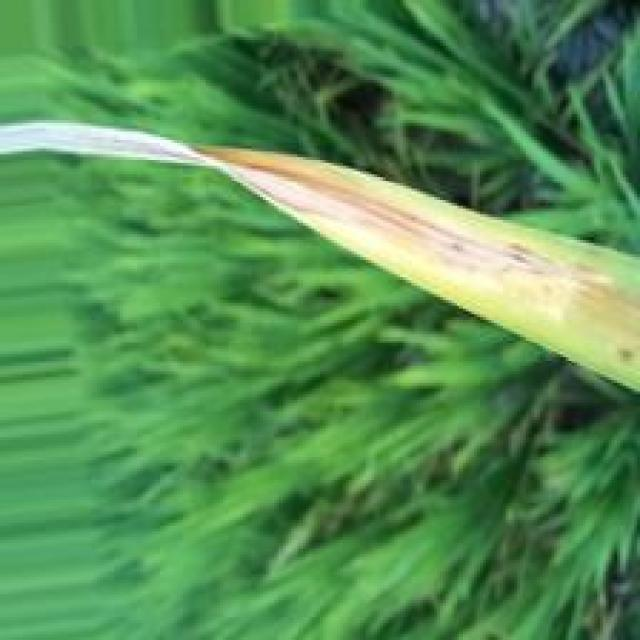Rice False Smut: (190, 148, 565, 284)
